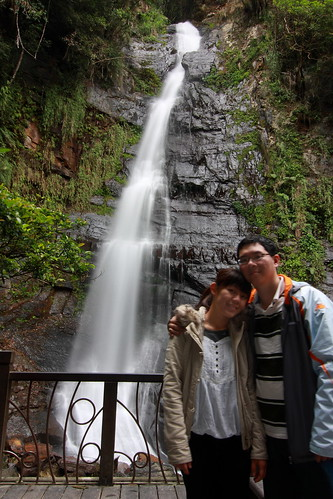wufengciWaterfall: (46, 14, 245, 359)
